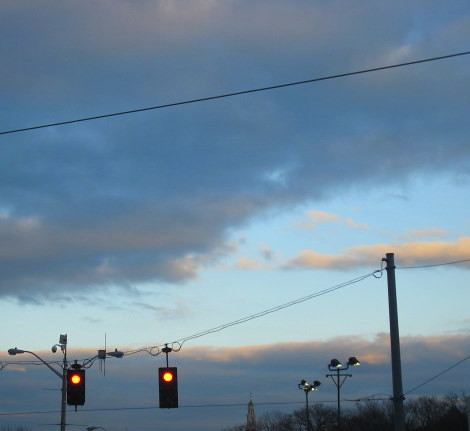sky: (1, 1, 470, 394)
